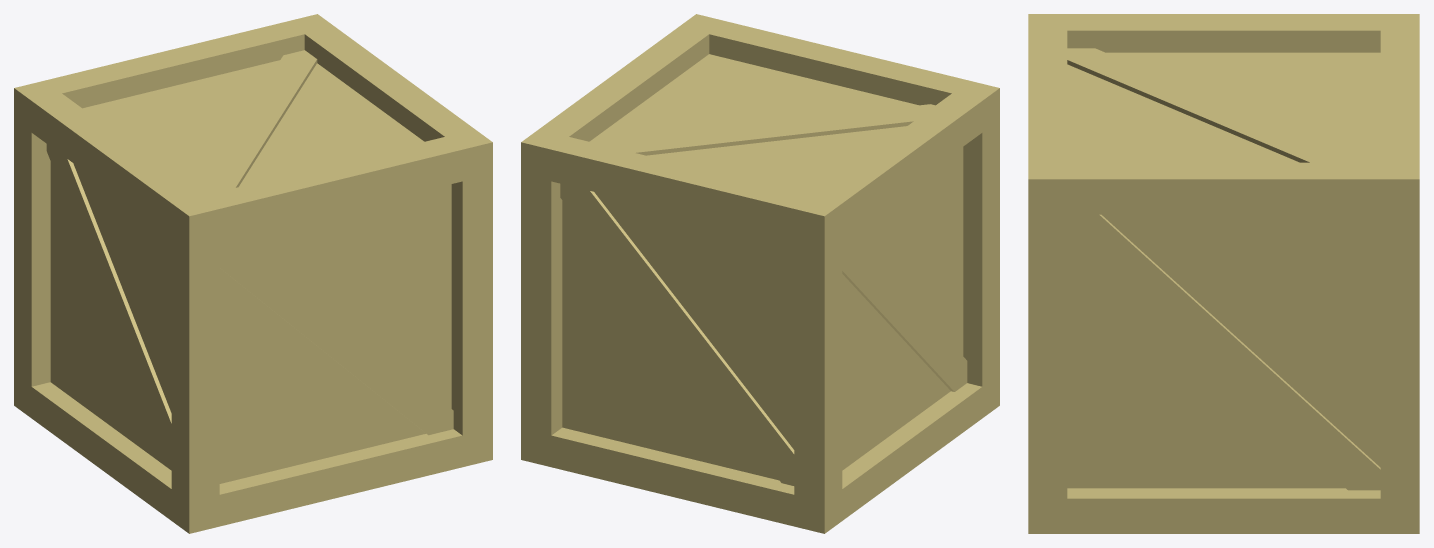
3 views of the same model, side by side, from view 1: azimuth 30°, elevation 25°; view 2: azimuth 150°, elevation 25°; view 3: azimuth 270°, elevation 25° (orthographic). The views are drawn at different scales.
Visible parts, largest first — view 1: Cube.010; view 2: Cube.010; view 3: Cube.010.
Part boxes in pixels (<box>): Cube.010: <box>14,14,492,533</box>; Cube.010: <box>521,14,999,533</box>; Cube.010: <box>1028,14,1419,533</box>.
Bounding box in the file's own units: 8 × 8 × 8.
1 material, 1 textured.
